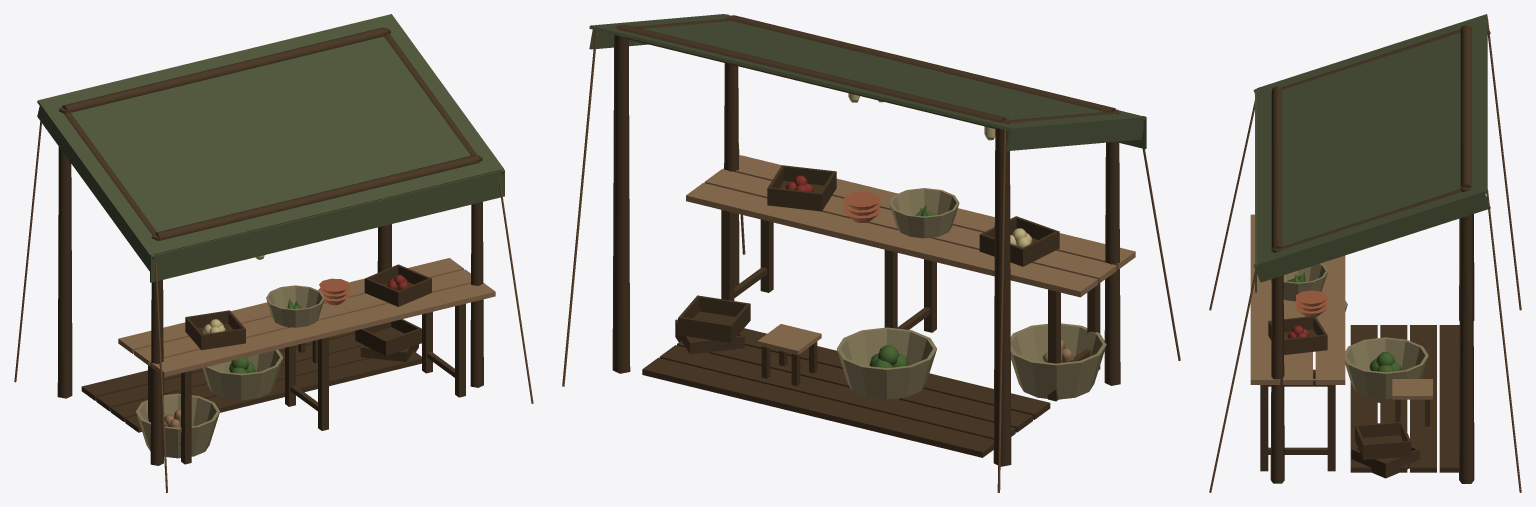
Rendered from open-air-vietnamese-street.glb.
The picture shows the model from 3 angles, left to right: view 1: azimuth 30°, elevation 25°; view 2: azimuth 150°, elevation 25°; view 3: azimuth 270°, elevation 25°; orthographic projection. The views are drawn at different scales.
Parts seen in each view (by area): view 1: Mesh_AwningMain, Mesh_AwningFrontFlap, Mesh_CounterPlank3, Mesh_PostBR, Mesh_CrossbeamB, Mesh_CrossbeamF, Mesh_CounterPlank2, Mesh_FloorPlank4, Mesh_Basket0, Mesh_Basket1, Mesh_CounterPlank1, Mesh_PostFL (+20 smaller); view 2: Mesh_AwningMain, Mesh_CounterPlank1, Mesh_FloorPlank1, Mesh_PostBL, Mesh_FloorPlank2, Mesh_Basket1, Mesh_Basket0, Mesh_PostBR, Mesh_CounterPlank2, Mesh_PostFR, Mesh_CrossbeamB, Mesh_FloorPlank3 (+18 smaller); view 3: Mesh_AwningMain, Mesh_PostBL, Mesh_AwningLeftFlap, Mesh_Basket1, Mesh_FloorPlank1, Mesh_CounterPlank1, Mesh_PostFL, Mesh_FloorPlank2, Mesh_CounterPlank3, Mesh_CrossbeamB, Mesh_CrossbeamF, Mesh_Crate3 (+18 smaller).
Part boxes in pixels (<box>): Mesh_AwningMain: <box>37,14,503,256</box>; Mesh_AwningFrontFlap: <box>150,169,504,282</box>; Mesh_CounterPlank3: <box>150,283,495,376</box>; Mesh_PostBR: <box>57,107,72,398</box>; Mesh_CrossbeamB: <box>62,27,386,112</box>; Mesh_CrossbeamF: <box>155,155,479,240</box>; Mesh_CounterPlank2: <box>134,269,470,365</box>; Mesh_FloorPlank4: <box>125,350,421,432</box>; Mesh_Basket0: <box>136,393,219,458</box>; Mesh_Basket1: <box>202,349,283,400</box>; Mesh_CounterPlank1: <box>118,258,463,353</box>; Mesh_PostFL: <box>470,155,483,387</box>; Mesh_AwningMain: <box>589,14,1145,131</box>; Mesh_CounterPlank1: <box>686,183,1097,297</box>; Mesh_FloorPlank1: <box>642,357,993,457</box>; Mesh_PostBL: <box>612,25,630,373</box>; Mesh_FloorPlank2: <box>659,345,1015,439</box>; Mesh_Basket1: <box>836,327,936,399</box>; Mesh_Basket0: <box>1010,323,1106,399</box>; Mesh_PostBR: <box>993,118,1011,466</box>; Mesh_CounterPlank2: <box>704,169,1116,283</box>; Mesh_PostFR: <box>1104,109,1120,385</box>; Mesh_CrossbeamB: <box>619,24,1005,128</box>; Mesh_FloorPlank3: <box>677,336,1032,432</box>; Mesh_AwningMain: <box>1256,14,1487,266</box>; Mesh_PostBL: <box>1459,186,1474,483</box>; Mesh_AwningLeftFlap: <box>1253,194,1490,282</box>; Mesh_Basket1: <box>1345,337,1428,402</box>; Mesh_FloorPlank1: <box>1439,325,1459,472</box>; Mesh_CounterPlank1: <box>1315,255,1345,384</box>; Mesh_PostFL: <box>1270,248,1284,483</box>; Mesh_FloorPlank2: <box>1410,325,1436,472</box>; Mesh_CounterPlank3: <box>1250,214,1280,384</box>; Mesh_CrossbeamB: <box>1460,25,1471,187</box>; Mesh_CrossbeamF: <box>1271,86,1282,251</box>; Mesh_Crate3: <box>1355,421,1411,459</box>.
Bounding box in the file's own units: 3.22 × 2.44 × 2.32.
Materials: 1 (1 with a texture image).
